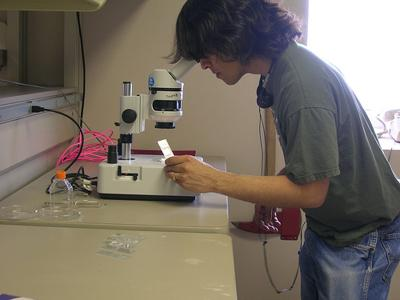person: (165, 2, 400, 298)
